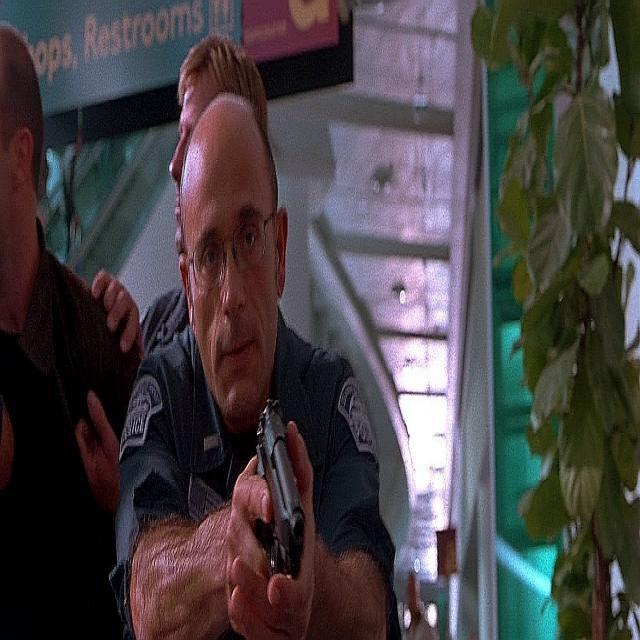gun-knife-thesis - v11 Yolov5 augmented: (253, 427, 314, 573)
